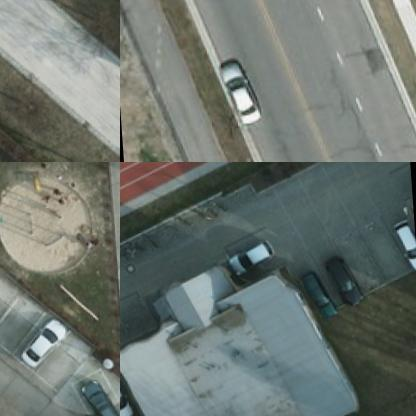car: (219, 55, 264, 127), (20, 309, 71, 367), (228, 233, 279, 274), (326, 238, 354, 298), (304, 259, 335, 313), (80, 373, 119, 415), (120, 358, 138, 415), (398, 209, 415, 264)
